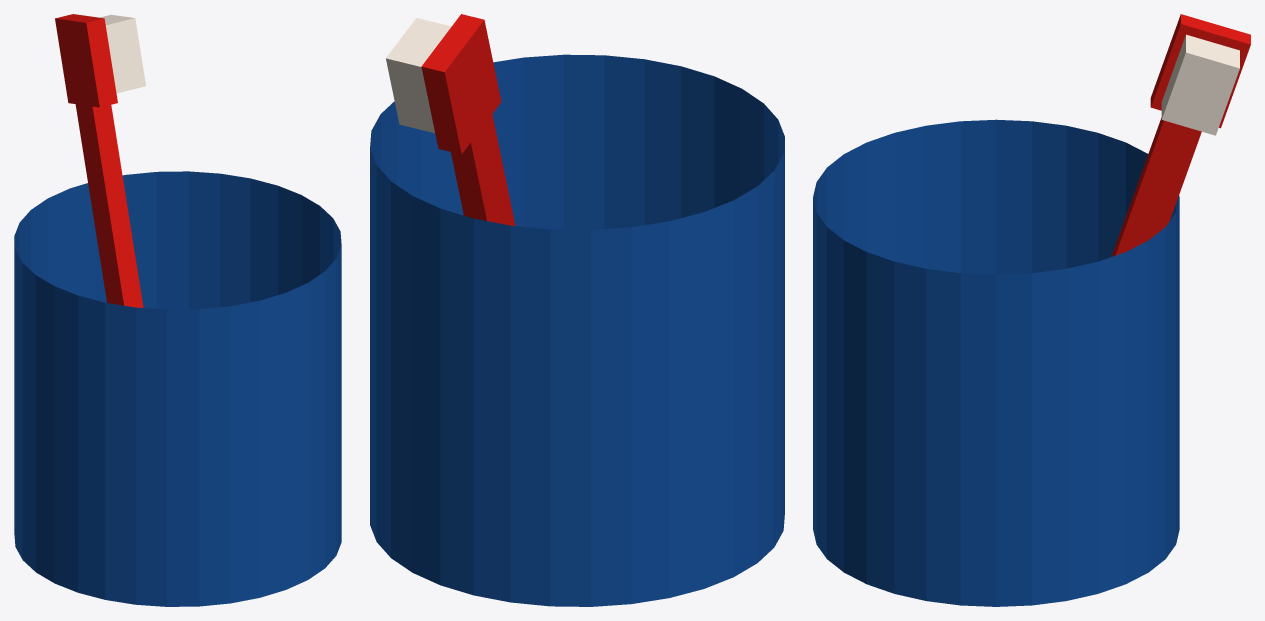
Rendered from Tootbrush.fbx.
3 views of the same model, side by side, from view 1: azimuth 30°, elevation 25°; view 2: azimuth 150°, elevation 25°; view 3: azimuth 270°, elevation 25° (orthographic). The views are drawn at different scales.
Parts seen in each view (by area): view 1: Cylinder, Cube, Cube.001, Cube.002; view 2: Cylinder, Cube.001, Cube, Cube.002; view 3: Cylinder, Cube.002, Cube, Cube.001.
Part boxes in pixels (box(x1,y1,x2,y2)): Cylinder: box(14, 171, 341, 606); Cube: box(75, 103, 143, 307); Cube.001: box(55, 14, 117, 107); Cube.002: box(100, 14, 145, 93); Cylinder: box(370, 54, 784, 606); Cube.001: box(421, 14, 501, 154); Cube: box(451, 113, 515, 225); Cube.002: box(386, 18, 451, 133); Cylinder: box(813, 119, 1179, 606); Cube.002: box(1161, 34, 1239, 135); Cube: box(1111, 117, 1201, 256); Cube.001: box(1150, 14, 1250, 128).
Size of the model in its own units: 27.1 by 41.63 by 32.37.
